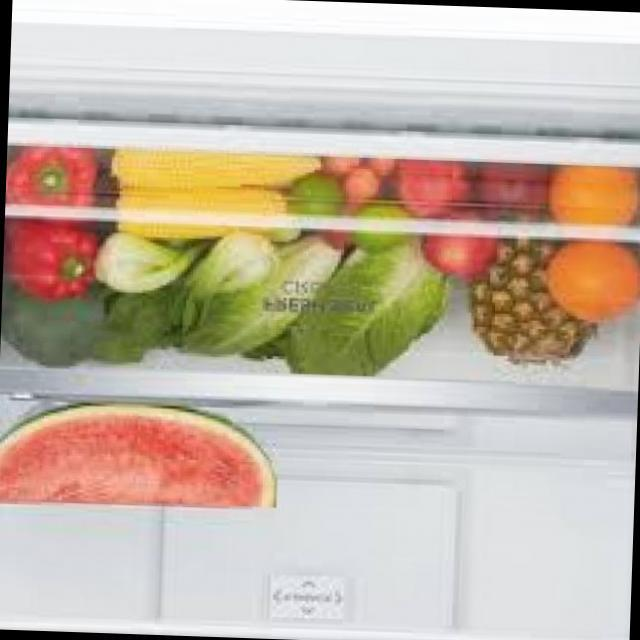peppers: (0, 137, 121, 308)
